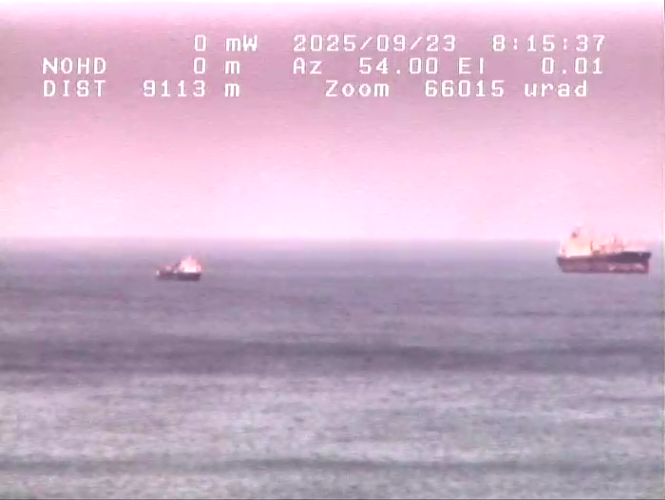TANKER: (550, 216, 658, 286), (150, 251, 204, 283)
